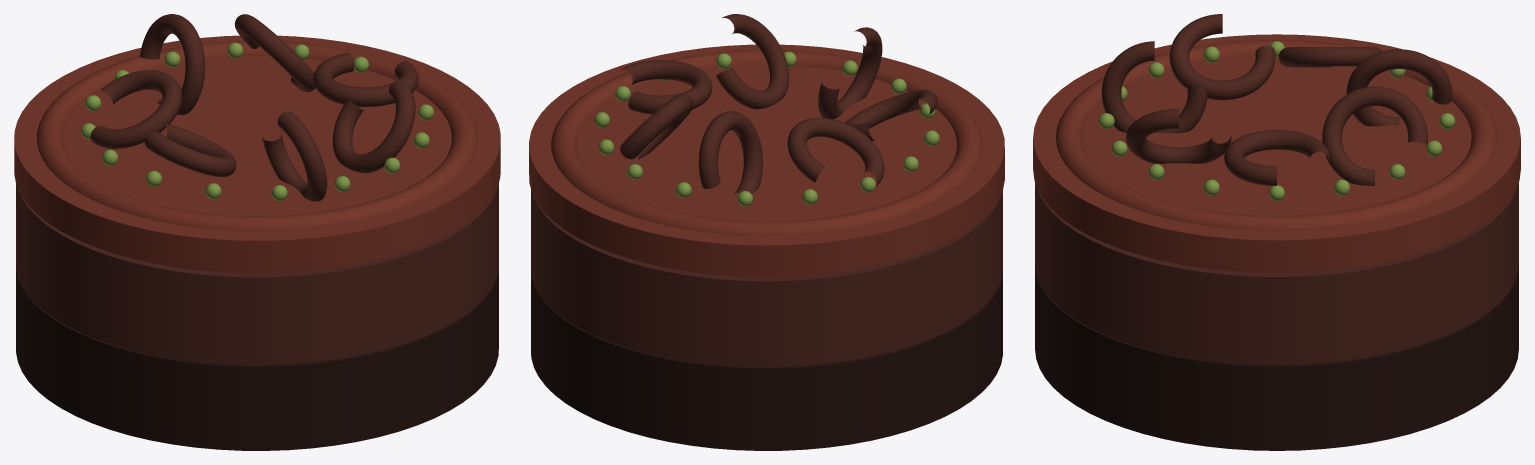
File: gateaux.glb
3 renders of one model, left to right at view 1: azimuth 30°, elevation 25°; view 2: azimuth 150°, elevation 25°; view 3: azimuth 270°, elevation 25°, orthographic. The views are drawn at different scales.
Parts seen in each view (by area): view 1: LaBaguette_gateaux; view 2: LaBaguette_gateaux; view 3: LaBaguette_gateaux.
Boxes of the visible parts, <box> form: LaBaguette_gateaux: <box>14,14,500,450</box>; LaBaguette_gateaux: <box>529,14,1004,450</box>; LaBaguette_gateaux: <box>1033,14,1520,450</box>.
Size of the model in its own units: 2.72 by 1.79 by 2.72.
